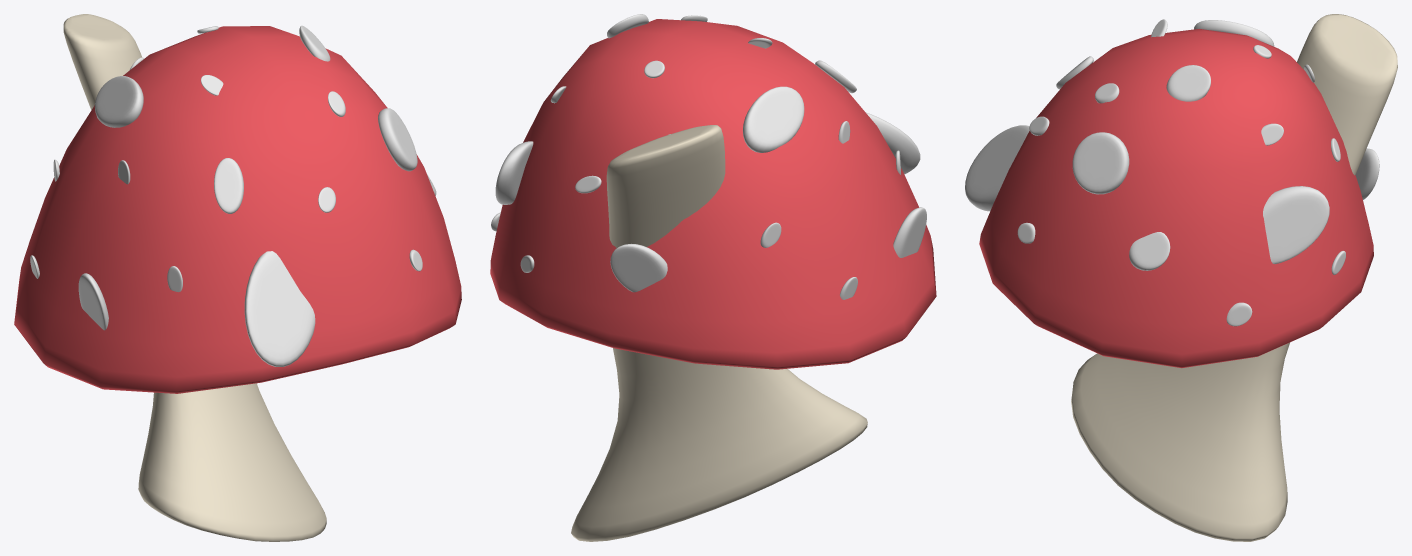
File: ENV_Mushroom02_Placeholder.fbx
3 renders of one model, left to right at view 1: azimuth 30°, elevation 25°; view 2: azimuth 150°, elevation 25°; view 3: azimuth 270°, elevation 25°, orthographic. The views are drawn at different scales.
Visible parts, largest first — view 1: Cube, mushroom, Cylinder.006, Cylinder.012, Cylinder, Cylinder.005, Cylinder.009, Cylinder.017; view 2: Cube, mushroom, Cylinder.012, Cylinder.016, Cylinder.020, Cylinder.006, Cylinder.009; view 3: Cube, mushroom, Cylinder.020, Cylinder.006, Cylinder, Cylinder.017, Cylinder.001, Cylinder.016, Cylinder.012.
Part boxes in pixels (x1,y1,x2,y2): Cube: (14,26,461,393); mushroom: (63,14,326,541); Cylinder.006: (244,251,315,366); Cylinder.012: (95,76,143,127); Cylinder: (378,108,417,171); Cylinder.005: (214,158,243,213); Cylinder.009: (78,273,108,330); Cylinder.017: (299,25,330,61); Cube: (490,19,936,369); mushroom: (571,125,867,541); Cylinder.012: (742,86,804,152); Cylinder.016: (610,243,667,292); Cylinder.020: (495,141,533,204); Cylinder.006: (866,112,920,174); Cylinder.009: (893,207,926,257); Cube: (979,29,1373,368); mushroom: (1071,14,1397,541); Cylinder.020: (1263,186,1329,264); Cylinder.006: (965,125,1029,211); Cylinder: (1072,132,1129,194); Cylinder.017: (1166,65,1210,101); Cylinder.001: (1129,232,1170,270); Cylinder.016: (1355,148,1379,199); Cylinder.012: (1194,20,1274,46).
Size of the model in its own units: 39.18 by 48.11 by 40.71.
